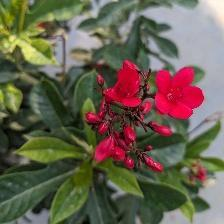jatropha: (154, 66, 206, 121), (108, 61, 147, 110)
